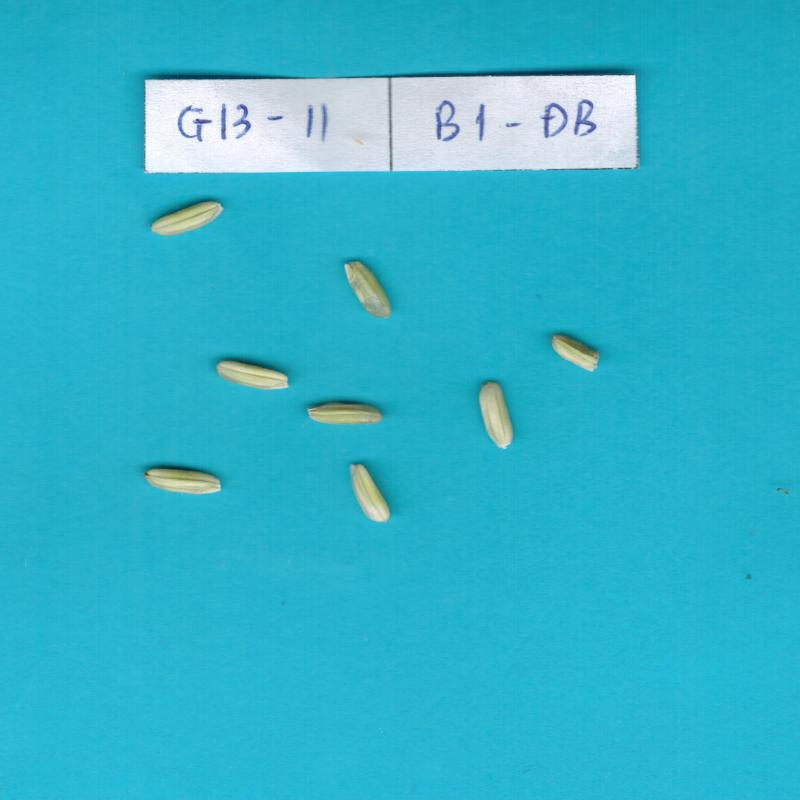Break: (552, 335, 599, 372)
Rice: (344, 261, 391, 318), (151, 202, 222, 236), (350, 464, 390, 522), (479, 381, 513, 448), (216, 360, 289, 390), (144, 468, 221, 494), (308, 402, 381, 424)
